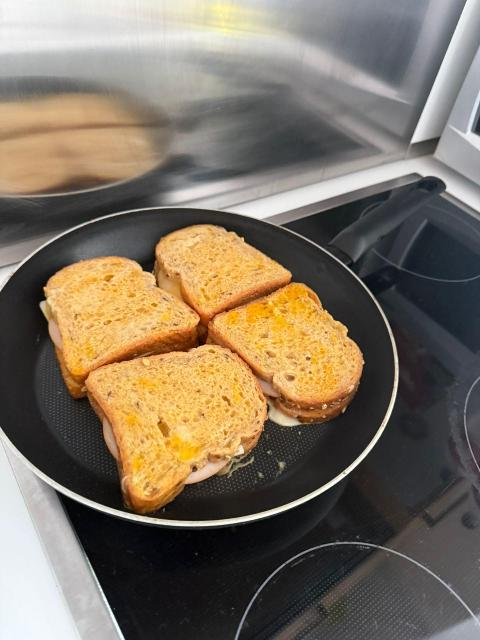Organik: (93, 345, 260, 477), (211, 300, 359, 407), (47, 268, 187, 357), (165, 228, 277, 301)
